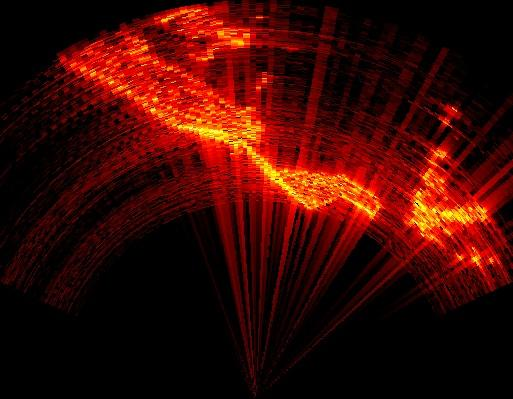shipwreck: (68, 4, 380, 213), (415, 200, 484, 234)
